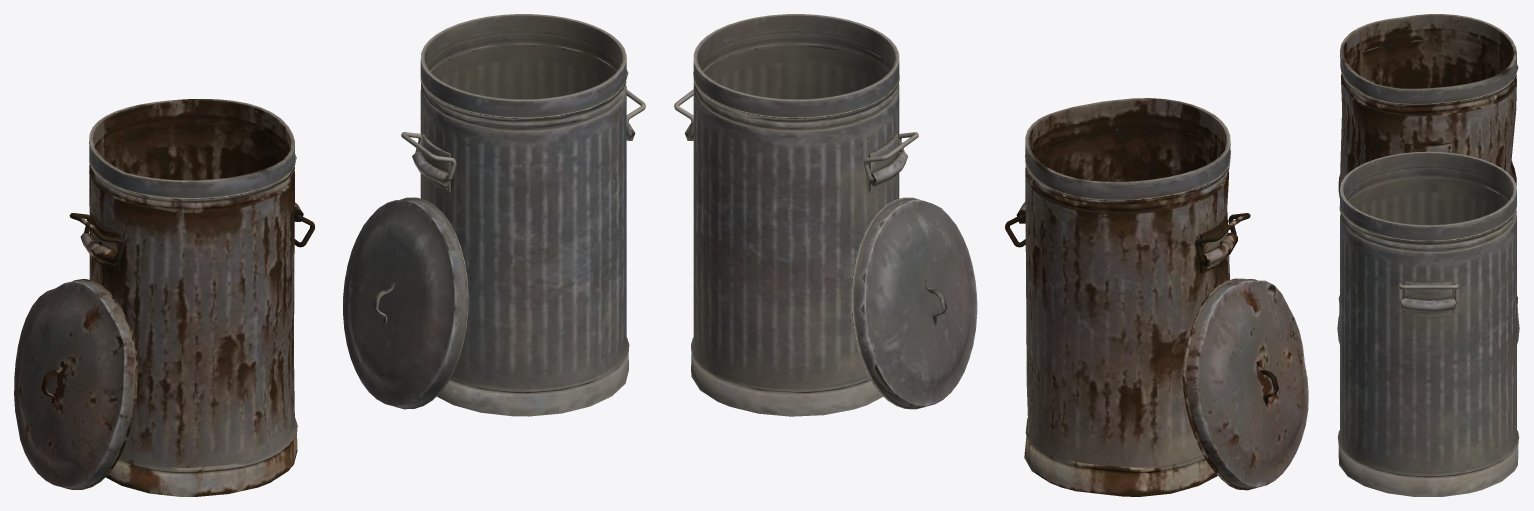
File: trashcan.glb
3 views of the same model, side by side, from view 1: azimuth 30°, elevation 25°; view 2: azimuth 150°, elevation 25°; view 3: azimuth 270°, elevation 25° (orthographic). The views are drawn at different scales.
Visible parts, largest first — view 1: metal_trash_can, metal_trash_can_rust, metal_trash_can_lid, metal_trash_can_rust_lid; view 2: metal_trash_can, metal_trash_can_rust, metal_trash_can_lid, metal_trash_can_rust_lid; view 3: metal_trash_can, metal_trash_can_rust, metal_trash_can_handle_right.
Part boxes in pixels (x1,y1,x2,y2): metal_trash_can: [412, 14, 635, 416]; metal_trash_can_rust: [80, 99, 303, 496]; metal_trash_can_lid: [343, 197, 468, 409]; metal_trash_can_rust_lid: [14, 279, 137, 489]; metal_trash_can: [685, 14, 907, 416]; metal_trash_can_rust: [1016, 98, 1237, 496]; metal_trash_can_lid: [851, 197, 977, 409]; metal_trash_can_rust_lid: [1183, 278, 1308, 490]; metal_trash_can: [1337, 151, 1519, 496]; metal_trash_can_rust: [1338, 14, 1518, 316]; metal_trash_can_handle_right: [1398, 283, 1458, 303].
Bounding box in the file's own units: 1.78 × 0.9062 × 0.5543.
Materials: 2 (2 with a texture image).
